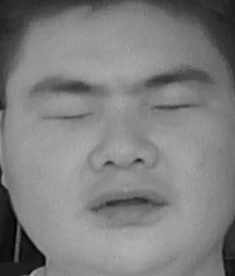blink: (45, 102, 96, 135), (154, 93, 200, 127)
mouth: (88, 178, 171, 229)
